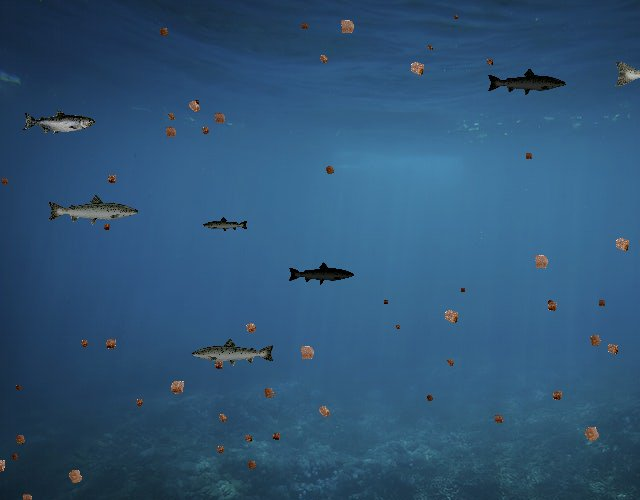Fish: (46, 194, 140, 228), (190, 337, 276, 368), (486, 68, 567, 97), (22, 110, 95, 136), (288, 261, 356, 286), (202, 217, 249, 234)
Pellet: (163, 374, 191, 402), (182, 94, 207, 119), (312, 400, 336, 424), (239, 316, 262, 339), (10, 429, 31, 450), (163, 108, 180, 125), (76, 335, 92, 351), (482, 55, 497, 69), (544, 296, 557, 309)
